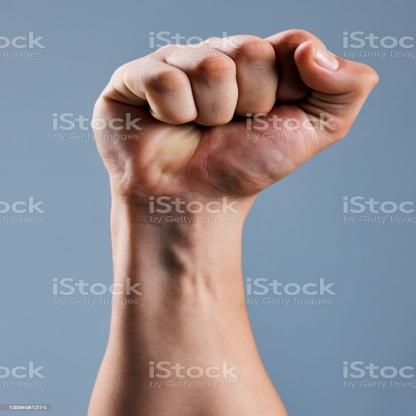fist: (42, 24, 377, 207)
